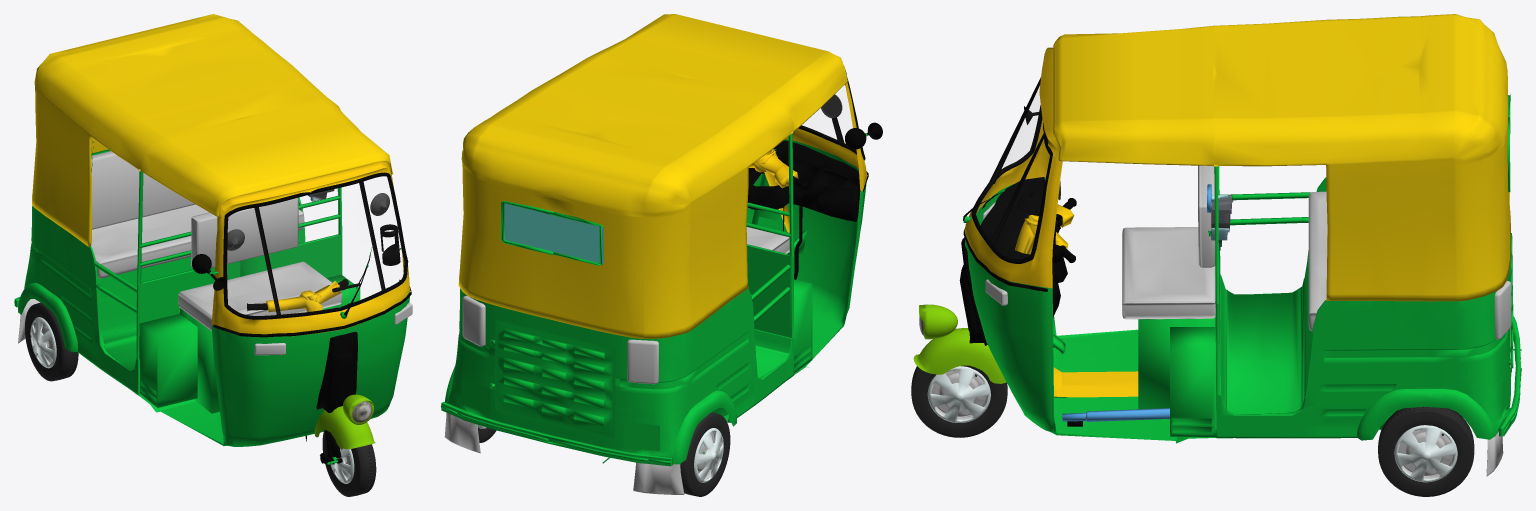
The model's file is bajajfbx.fbx.
The picture shows the model from 3 angles, left to right: view 1: azimuth 30°, elevation 25°; view 2: azimuth 150°, elevation 25°; view 3: azimuth 270°, elevation 25°; orthographic projection. The views are drawn at different scales.
Parts seen in each view (by area): view 1: bajaj, Wheel002, Wheel; view 2: bajaj, Wheel002; view 3: bajaj, Wheel001, Wheel.
Boxes of the visible parts, x1=… form: bajaj: x1=14, y1=14, x2=412, y2=464; Wheel002: x1=25, y1=302, x2=78, y2=381; Wheel: x1=322, y1=430, x2=376, y2=496; bajaj: x1=441, y1=14, x2=882, y2=494; Wheel002: x1=680, y1=412, x2=730, y2=496; bajaj: x1=913, y1=14, x2=1521, y2=476; Wheel001: x1=1378, y1=407, x2=1474, y2=496; Wheel: x1=911, y1=365, x2=1007, y2=437.
Size of the model in its own units: 185 by 233 by 349.
